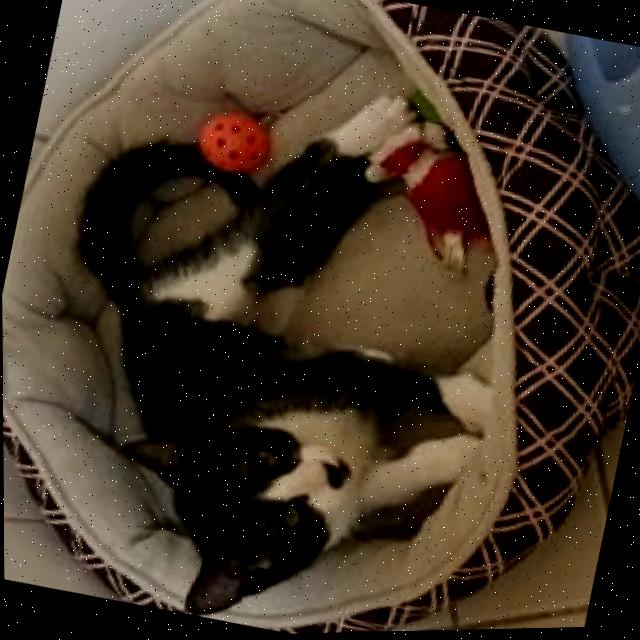Tuxedo: (0, 26, 553, 640)
